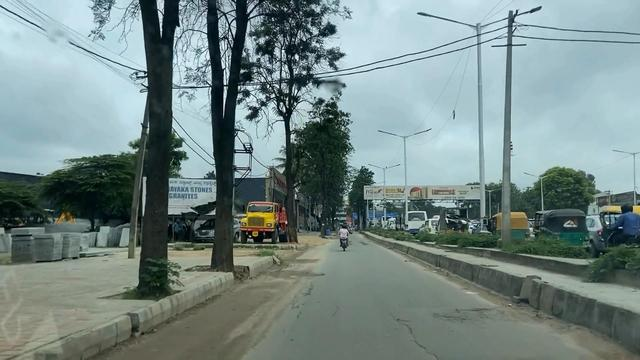RoadDamages: (412, 298, 538, 345)
